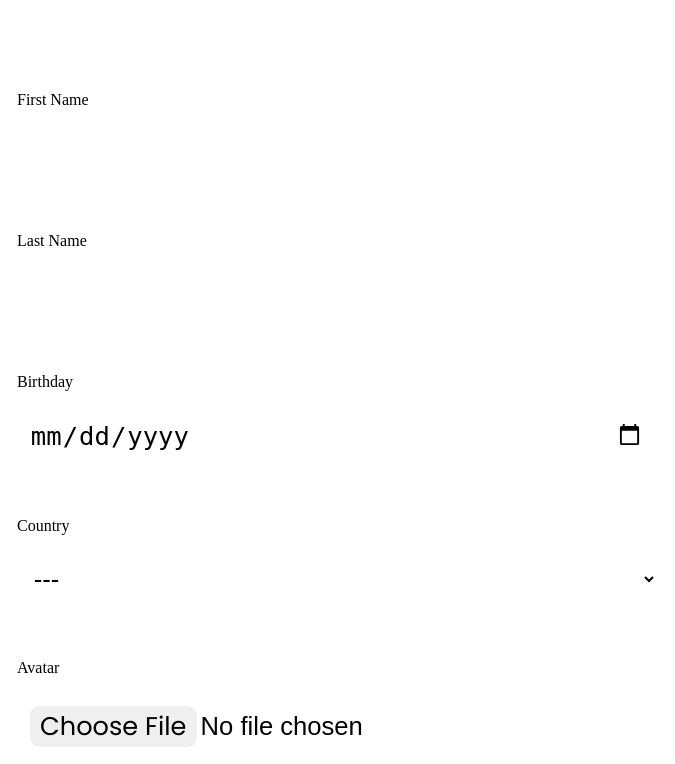
Scenario: when typing in Form inputs › should allow user to select a country
Select "Italy" in the dropdown with test id "country". click: [337, 579]
box: [17, 551, 657, 607]
(page scrolled)
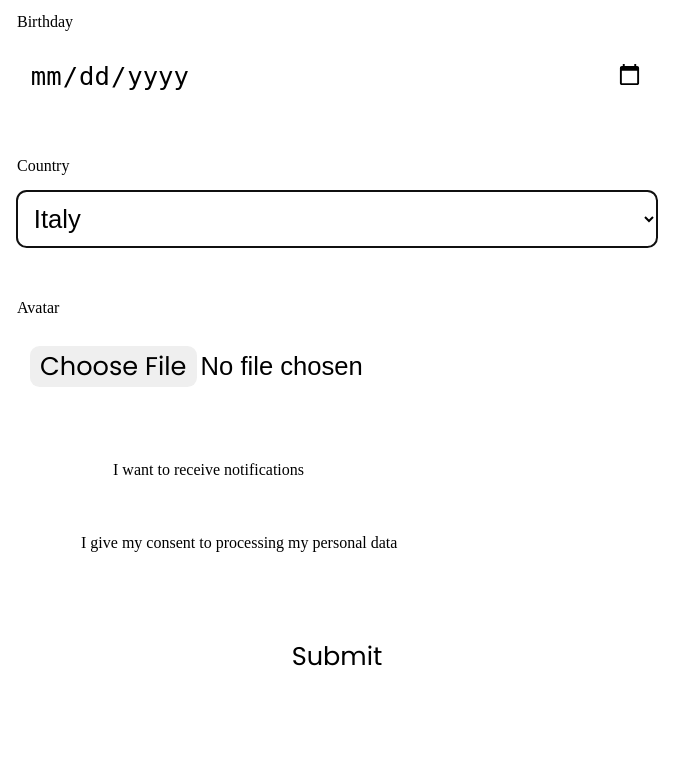
Now the button with test id "submit-button" is enabled, box [17, 617, 657, 696]
